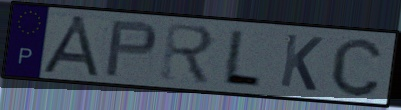A: (38, 14, 105, 80)
C: (328, 35, 386, 99)
K: (277, 31, 326, 93)
L: (219, 27, 264, 89)
P: (102, 19, 160, 79)
R: (158, 21, 217, 87)
